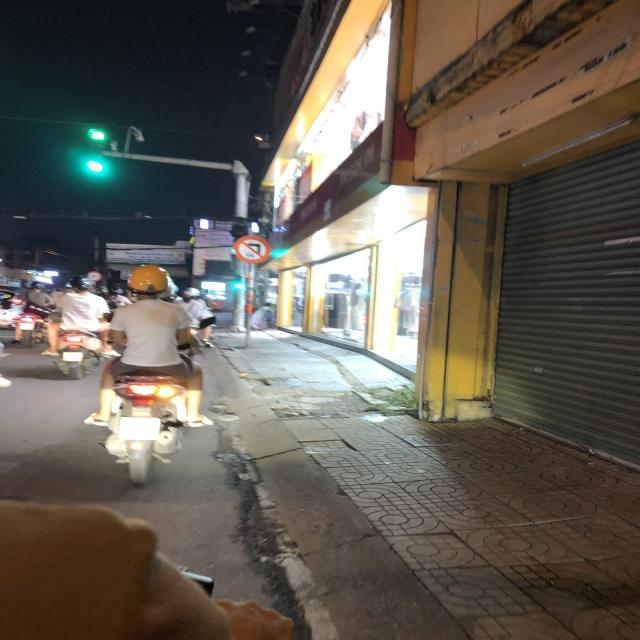Bien bao cam xe o to re trai: (230, 231, 272, 265)
